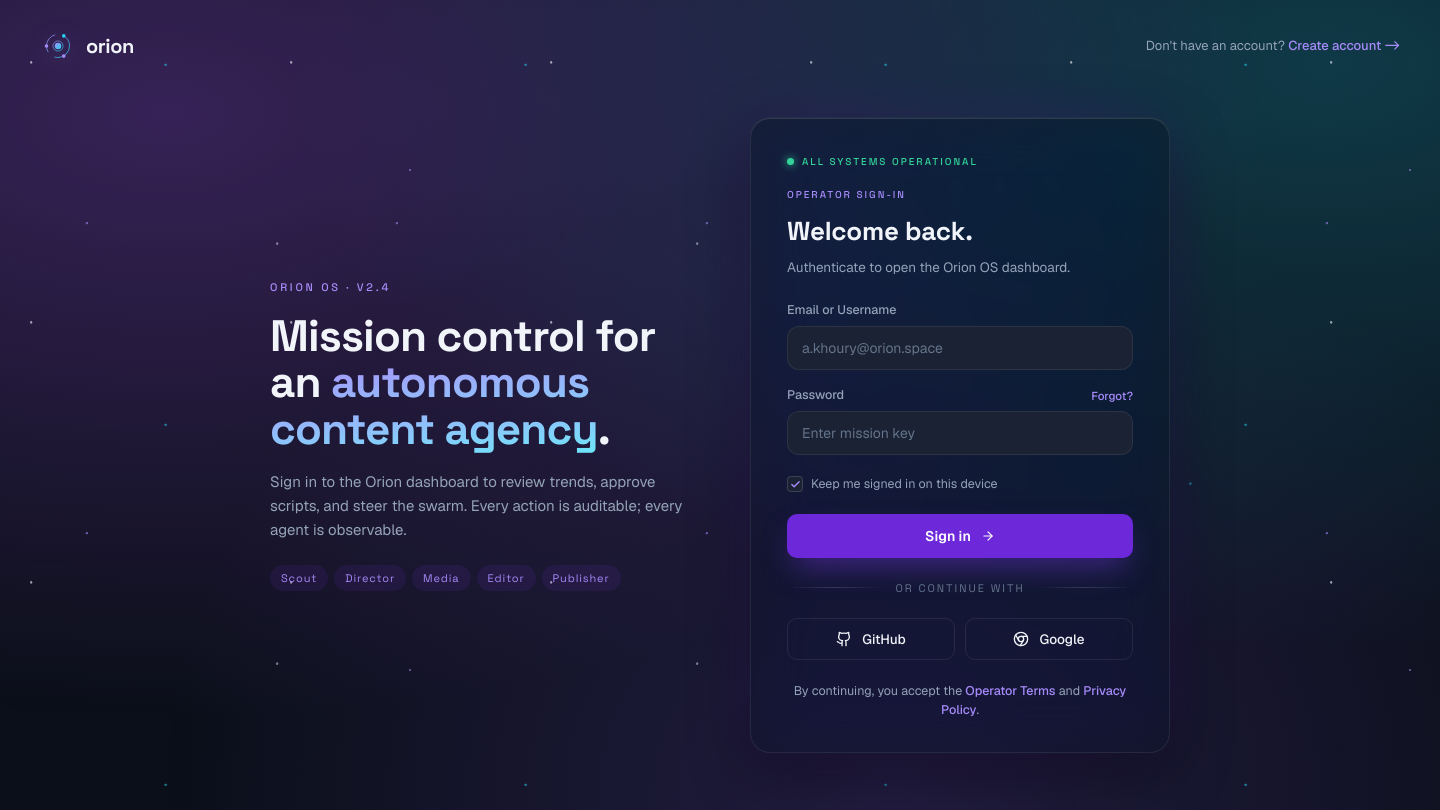
Auth Flow Integration › displays network error on login failure
This screenshot has width=1440, height=810.
In the field labelled "Email or Username": (960, 348) [787, 326, 1133, 370], type "admin"
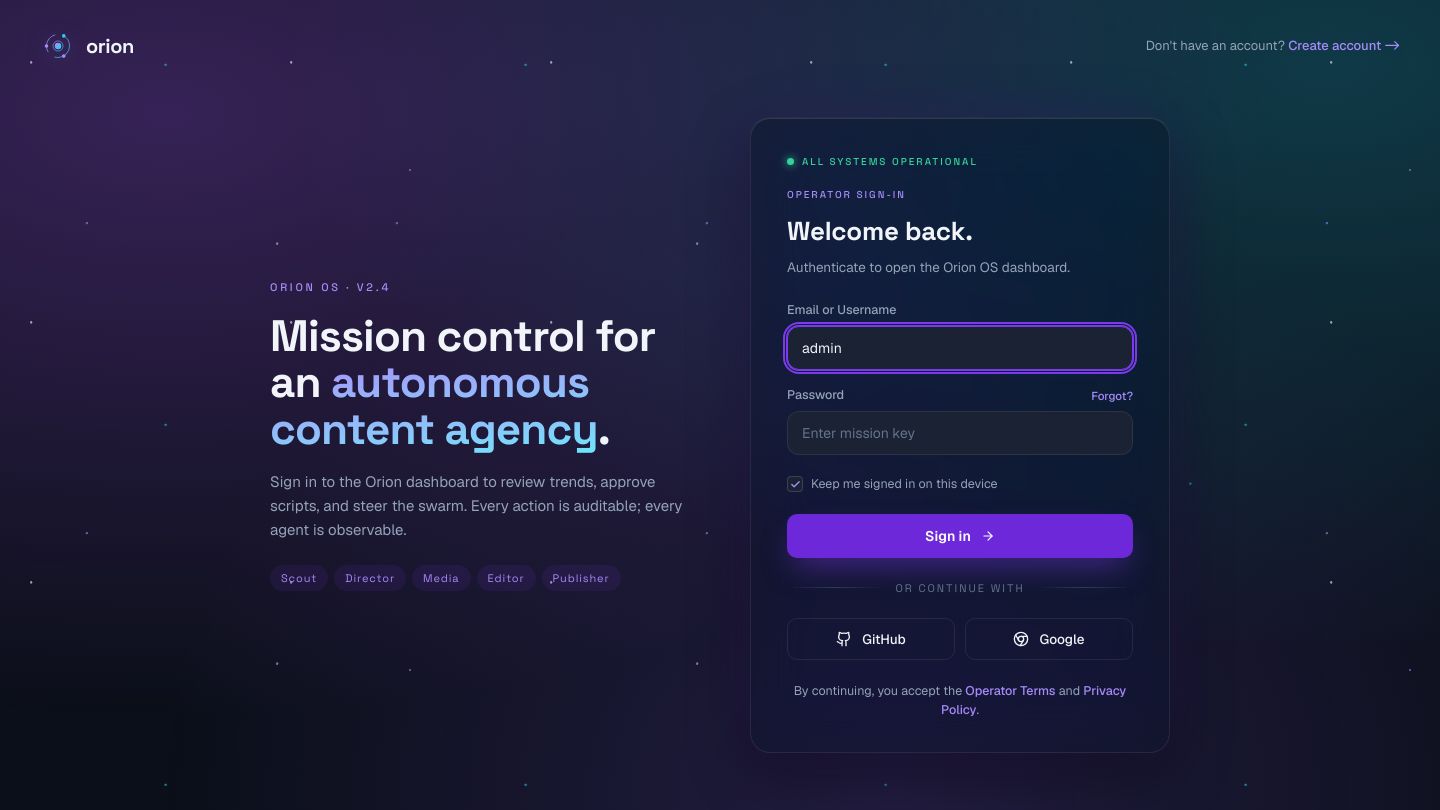
In the password field labelled "Password": (960, 433) [787, 411, 1133, 455], type "secret"
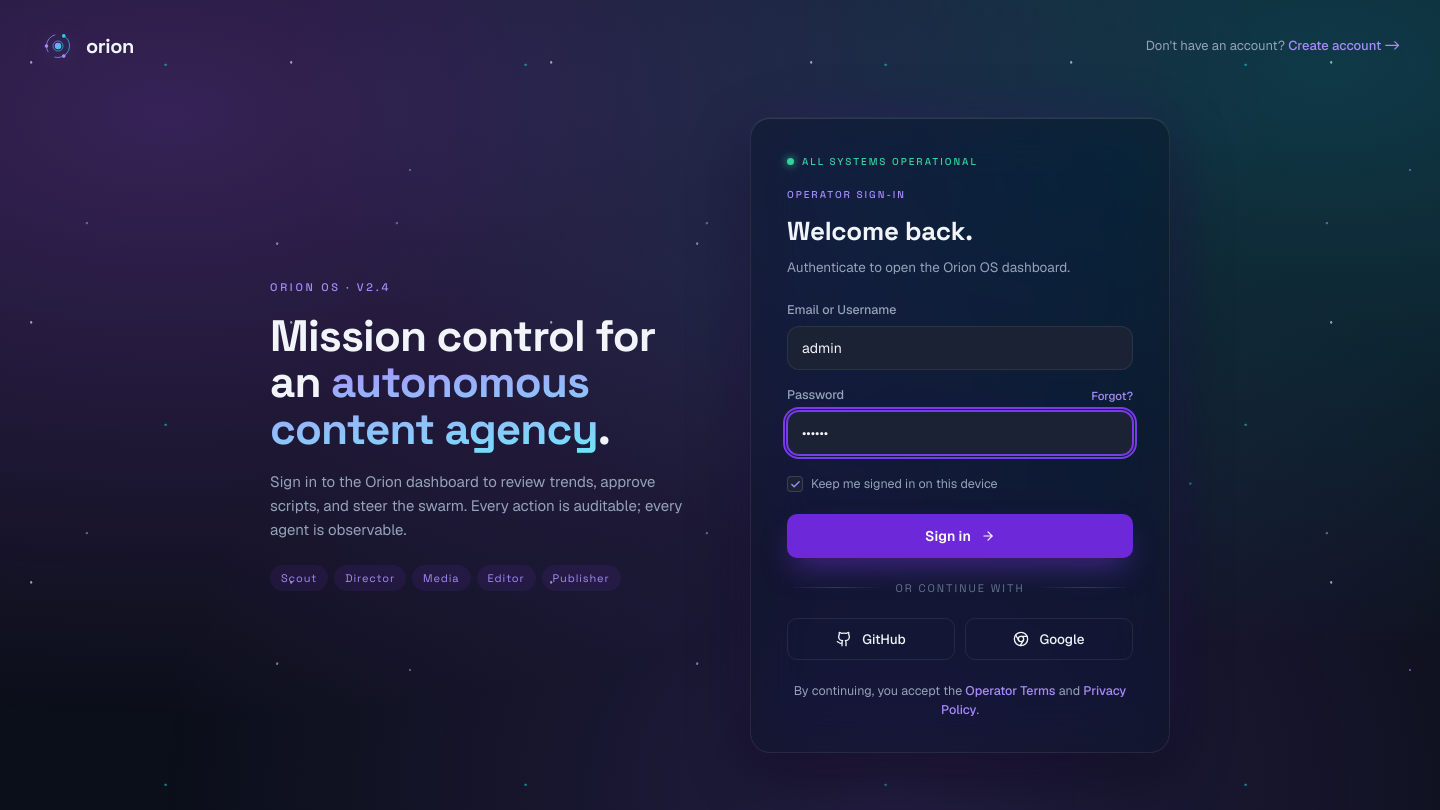
Click the button "Sign in": (960, 536) [787, 514, 1133, 558]
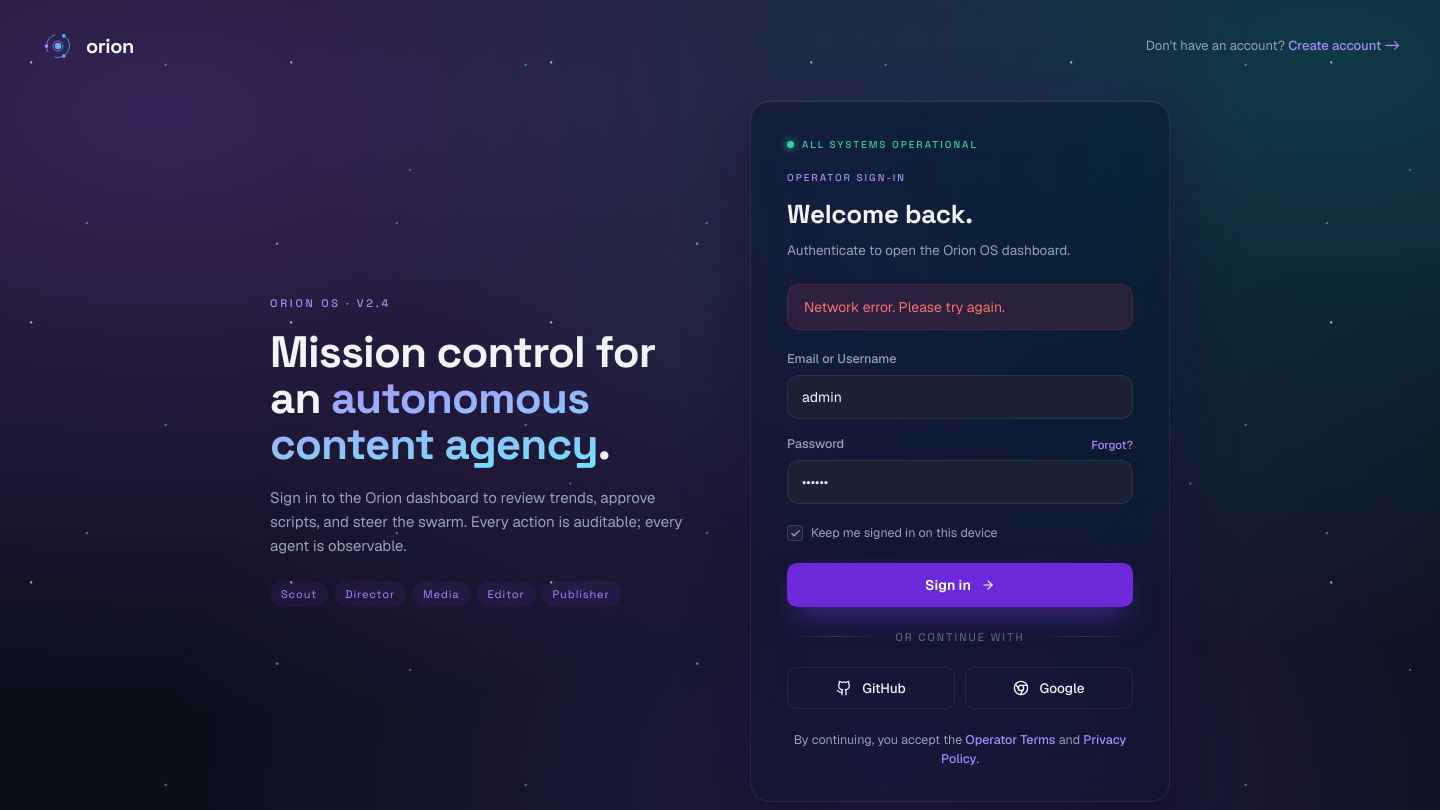
Expected: the text "Network error. Please try again." is shown, [787, 284, 1133, 330]
